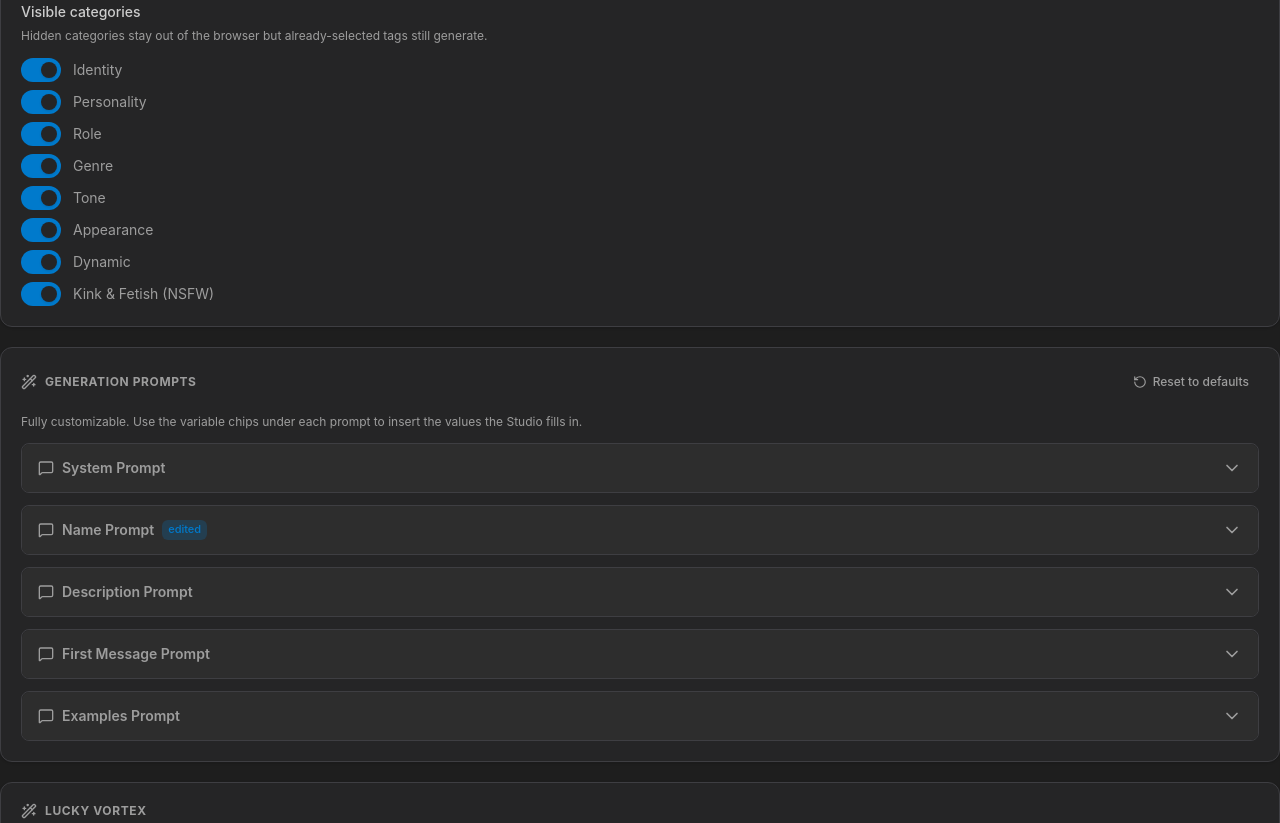
Test: prompt reset › resets one Studio prompt after confirming
(page scrolled)
Expected: the text "System Prompt" does not show "edited"
Click the button "Name Prompt edited". click: (108, 530)
box: top-left (22, 506), bottom-right (1258, 554)
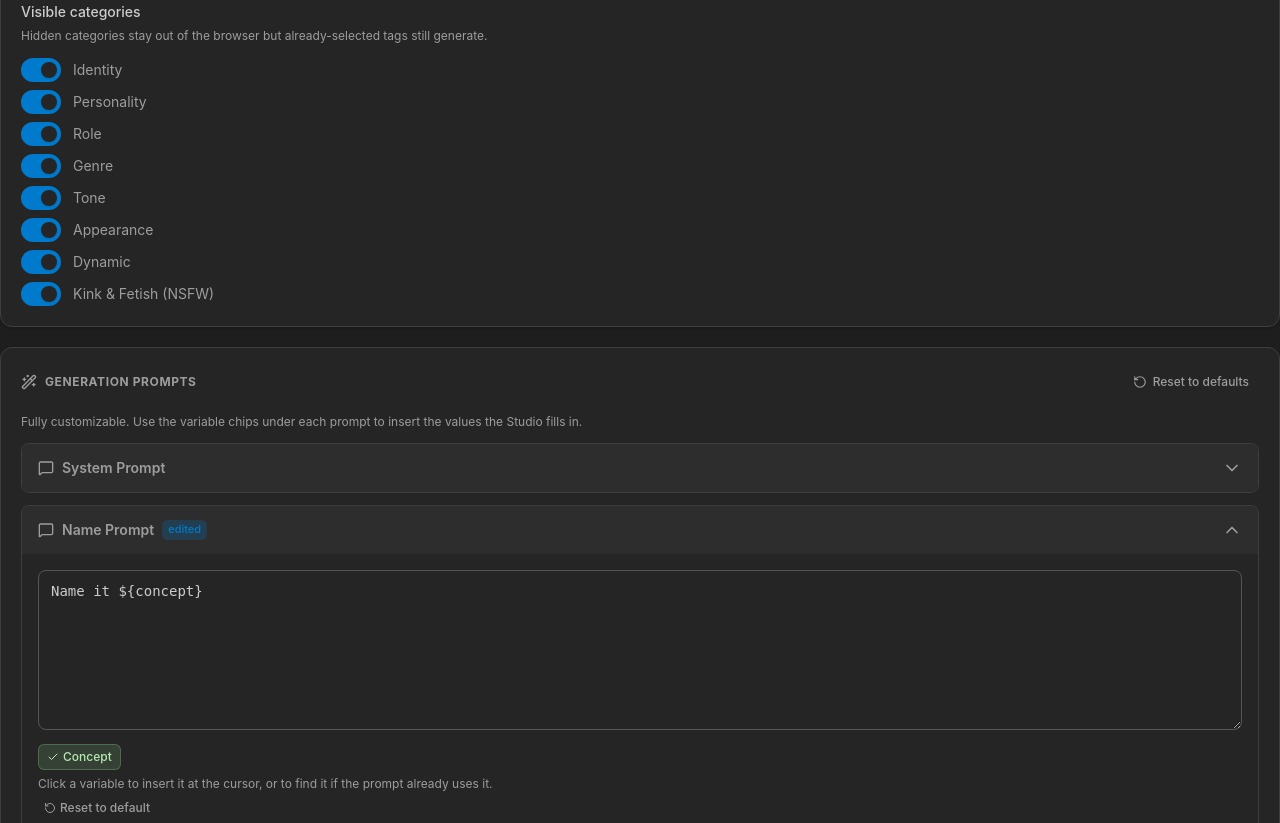
Click the button "Reset to default". click: (97, 808)
box: top-left (38, 798), bottom-right (156, 818)
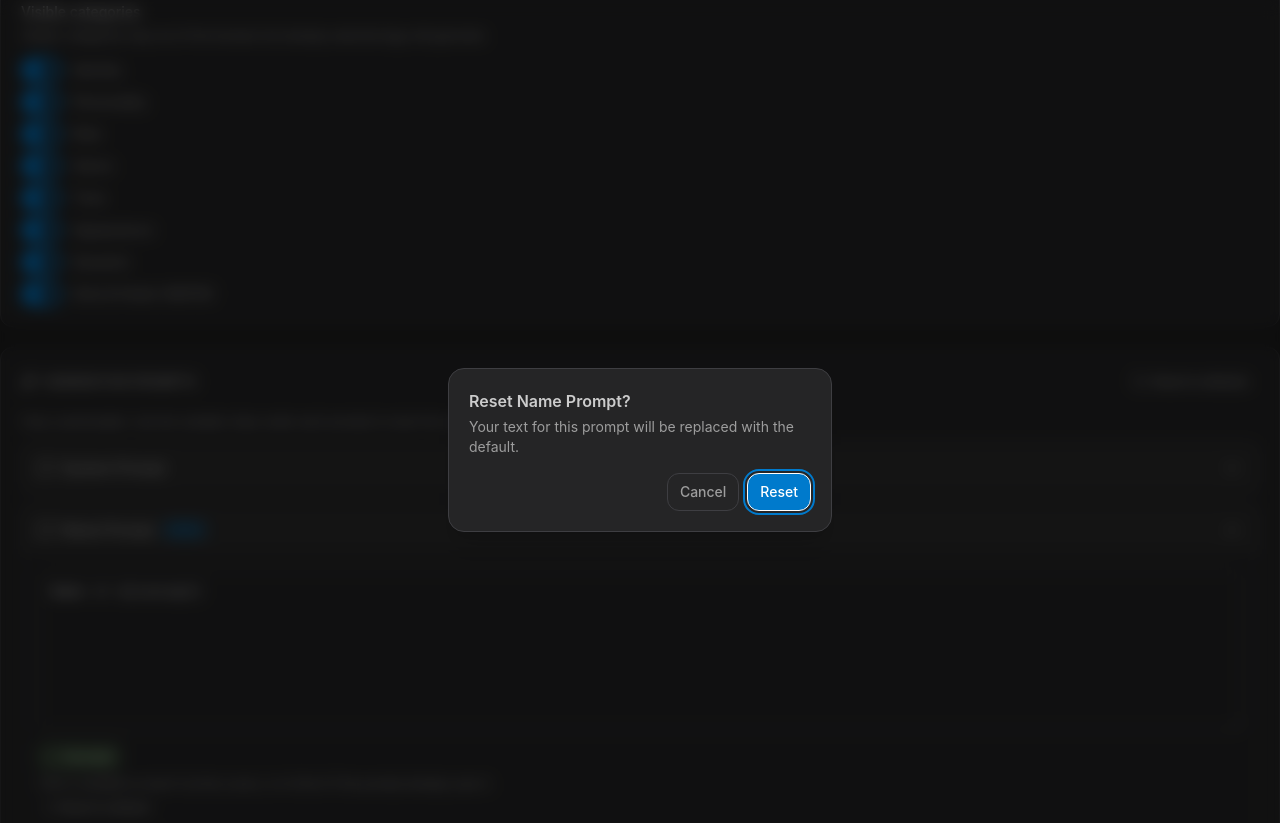
Click the button "Reset". click: (779, 492)
box: top-left (747, 473), bottom-right (811, 511)
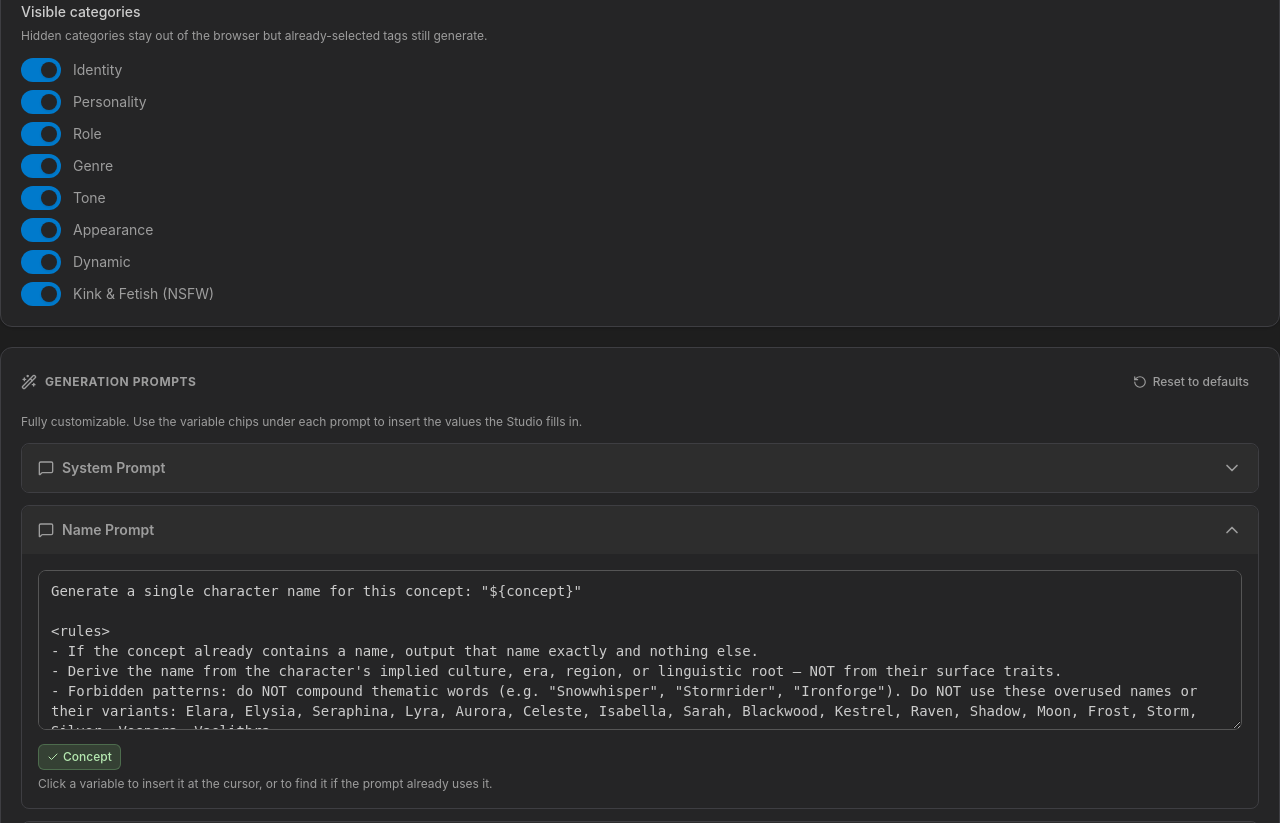
Now the text "Name Prompt" no longer shows "edited"
